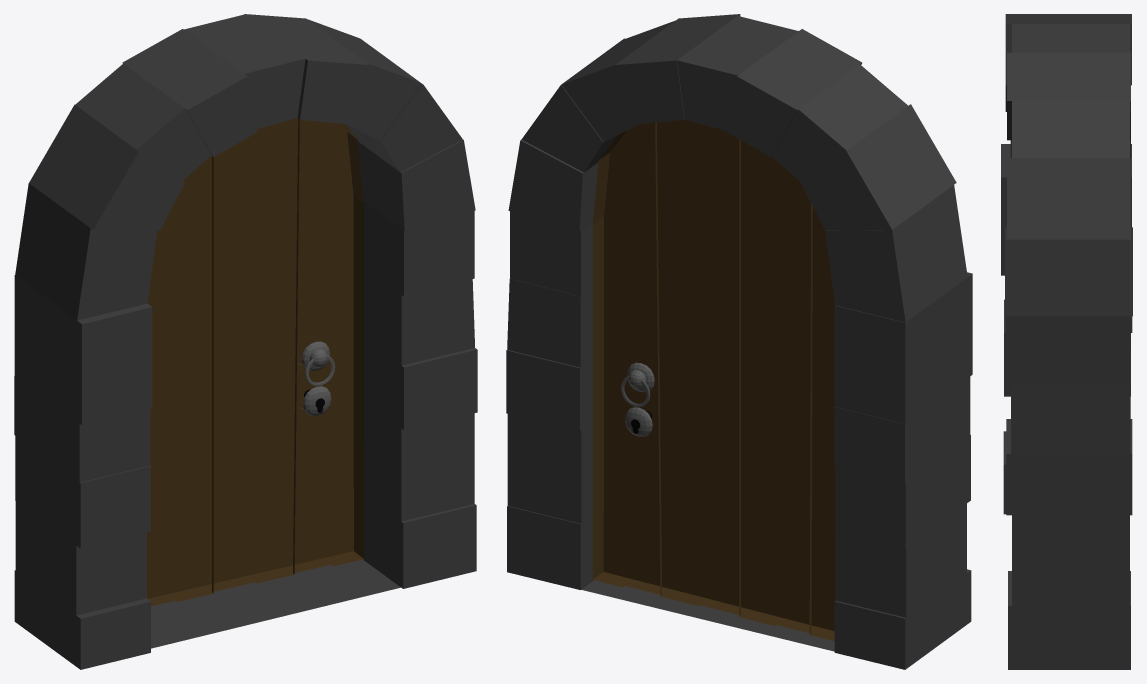
Rendered from newdoor.fbx.
3 views of the same model, side by side, from view 1: azimuth 30°, elevation 25°; view 2: azimuth 150°, elevation 25°; view 3: azimuth 270°, elevation 25° (orthographic). The views are drawn at different scales.
Parts seen in each view (by area): view 1: Cube, Цилиндр.002; view 2: Cube, Цилиндр.002; view 3: Cube.
Part boxes in pixels (x1,y1,x2,y2): Cube: (14,14,477,669); Цилиндр.002: (147,118,364,606); Cube: (506,14,972,669); Цилиндр.002: (592,119,835,641); Cube: (1001,14,1132,669).
Size of the model in its own units: 170 by 225 by 50.18.
